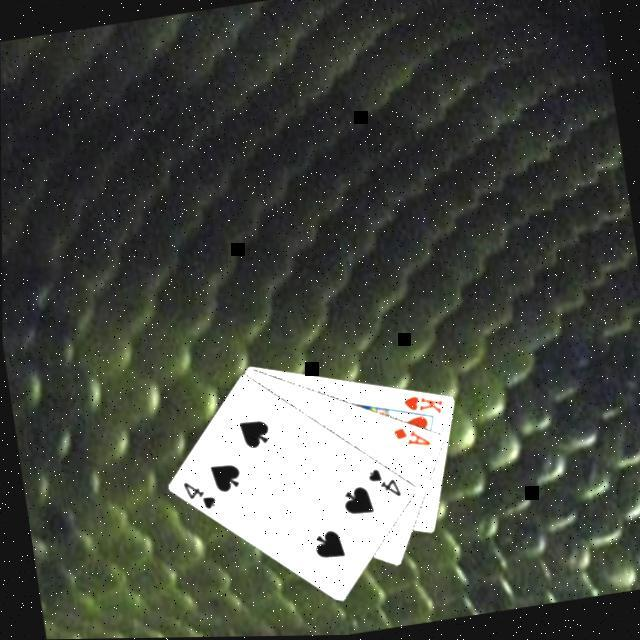4S: (366, 464, 406, 508), (182, 477, 222, 518)
AD: (392, 422, 436, 457)
KH: (401, 390, 449, 426)
